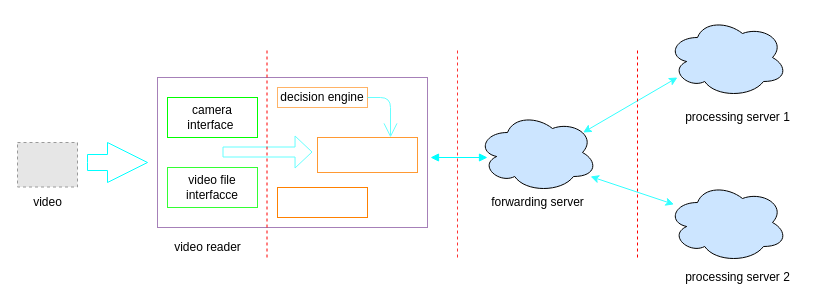
This 815x305 diagram has some shape labels left out. Grey dashed boxes stand in for pictures. The box of each missing label's shape, as (x1, y1, x2, y2) in pixels:
other modules: (276, 186, 368, 218)
preprocess: (316, 136, 418, 172)
